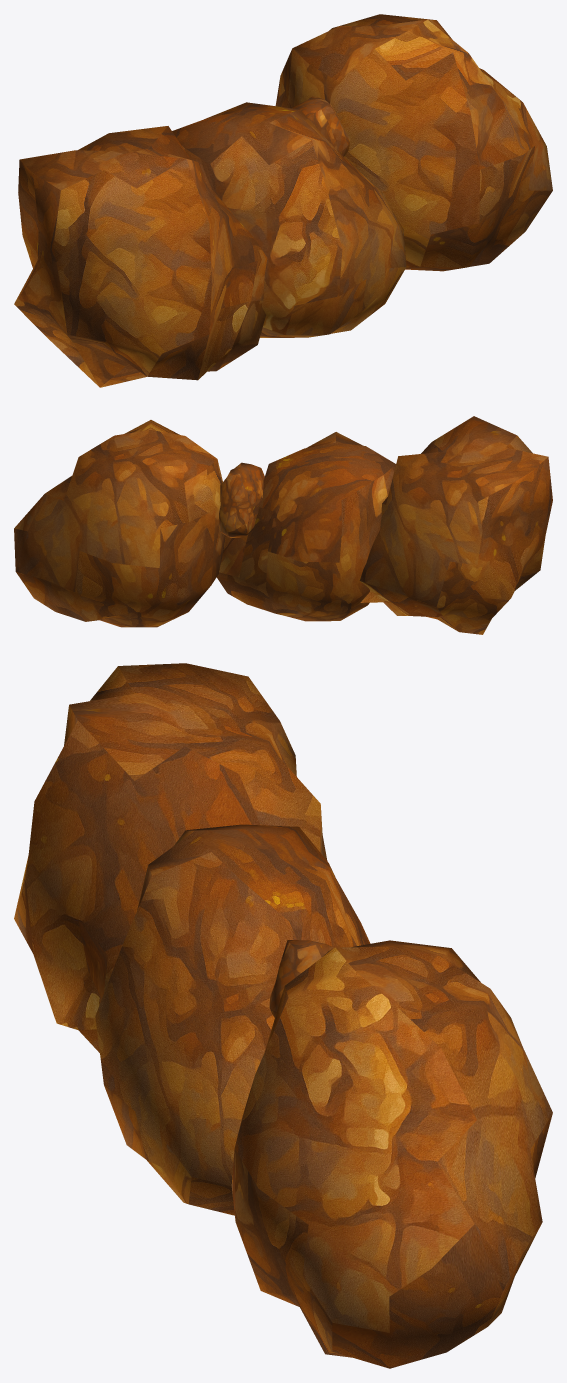
Rendered from RockComboA.fbx.
3 renders of one model, top to bottom at view 1: azimuth 30°, elevation 25°; view 2: azimuth 150°, elevation 25°; view 3: azimuth 270°, elevation 25°, orthographic. The views are drawn at different scales.
Parts seen in each view (by area): view 1: StoneCombo1; view 2: StoneCombo1; view 3: StoneCombo1.
Part boxes in pixels (x1,y1,x2,y2): StoneCombo1: [14, 14, 552, 387]; StoneCombo1: [14, 416, 552, 634]; StoneCombo1: [14, 663, 552, 1368].
Size of the model in its own units: 15.82 by 7.06 by 9.02.
